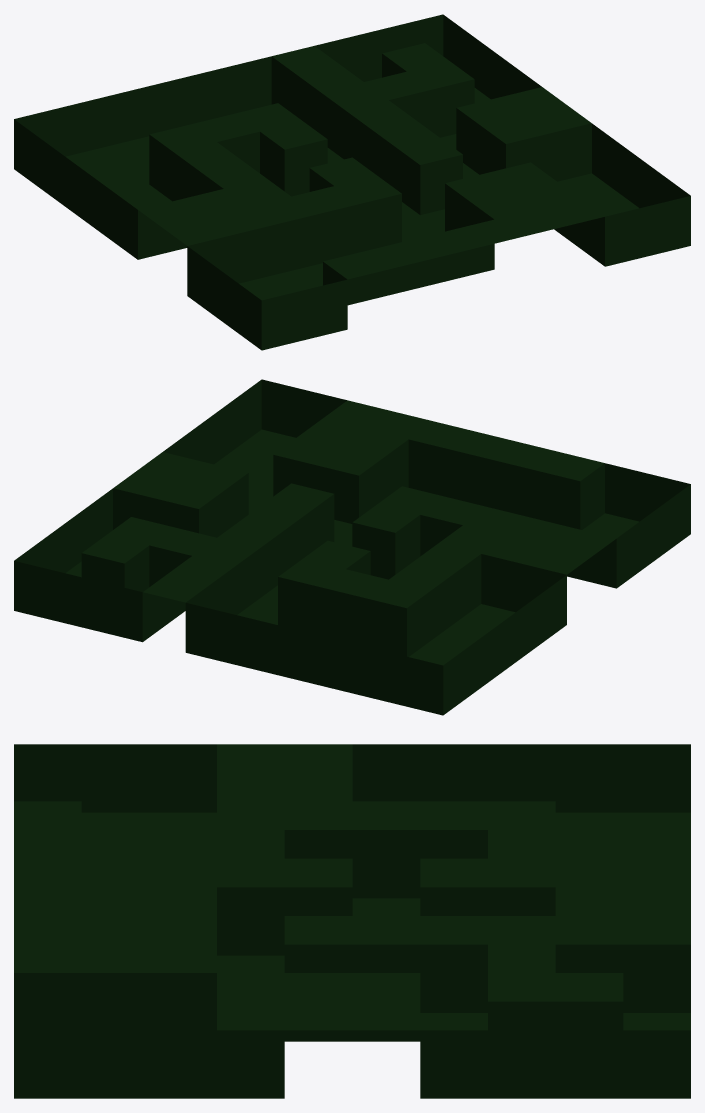
File: Map.dae
The picture shows the model from 3 angles, top to bottom: view 1: azimuth 30°, elevation 25°; view 2: azimuth 150°, elevation 25°; view 3: azimuth 270°, elevation 25°; orthographic projection. The views are drawn at different scales.
Parts seen in each view (by area): view 1: Plane; view 2: Plane; view 3: Plane.
Boxes of the visible parts, x1=… form: Plane: x1=14, y1=14, x2=690, y2=350; Plane: x1=14, y1=379, x2=690, y2=715; Plane: x1=14, y1=744, x2=690, y2=1098.
Size of the model in its own units: 15.85 by 15.85 by 1.77.
